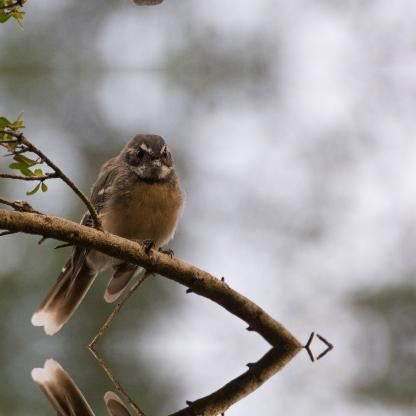Bird: (48, 133, 186, 319), (48, 373, 186, 415)
